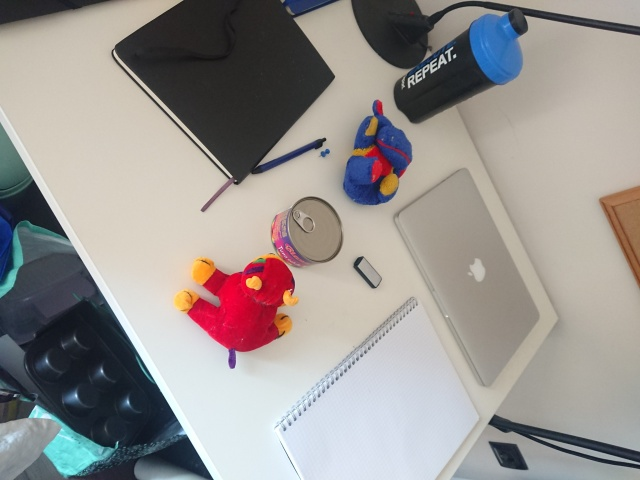Giana Tuna Salad Mexico 185g: (268, 193, 346, 270)
